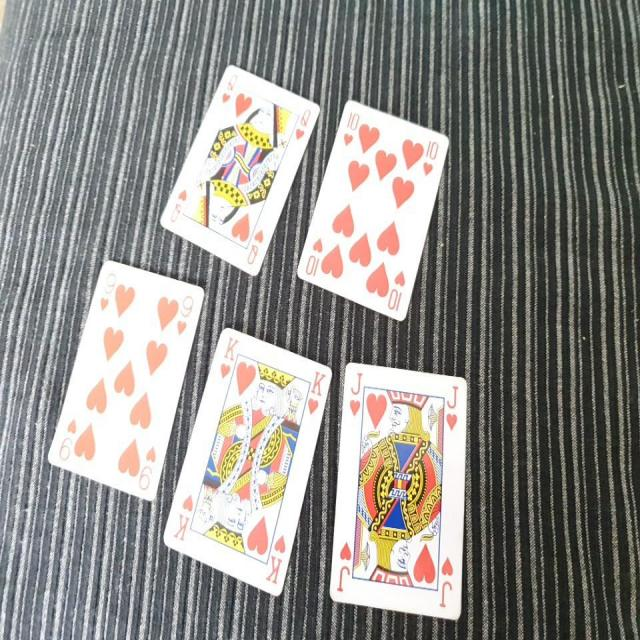10 Hearts: (289, 95, 456, 318)
9 Hearts: (50, 247, 207, 496)
J Hearts: (329, 353, 473, 622)
K Hearts: (158, 321, 333, 602)
Q Hearts: (156, 59, 323, 288)
